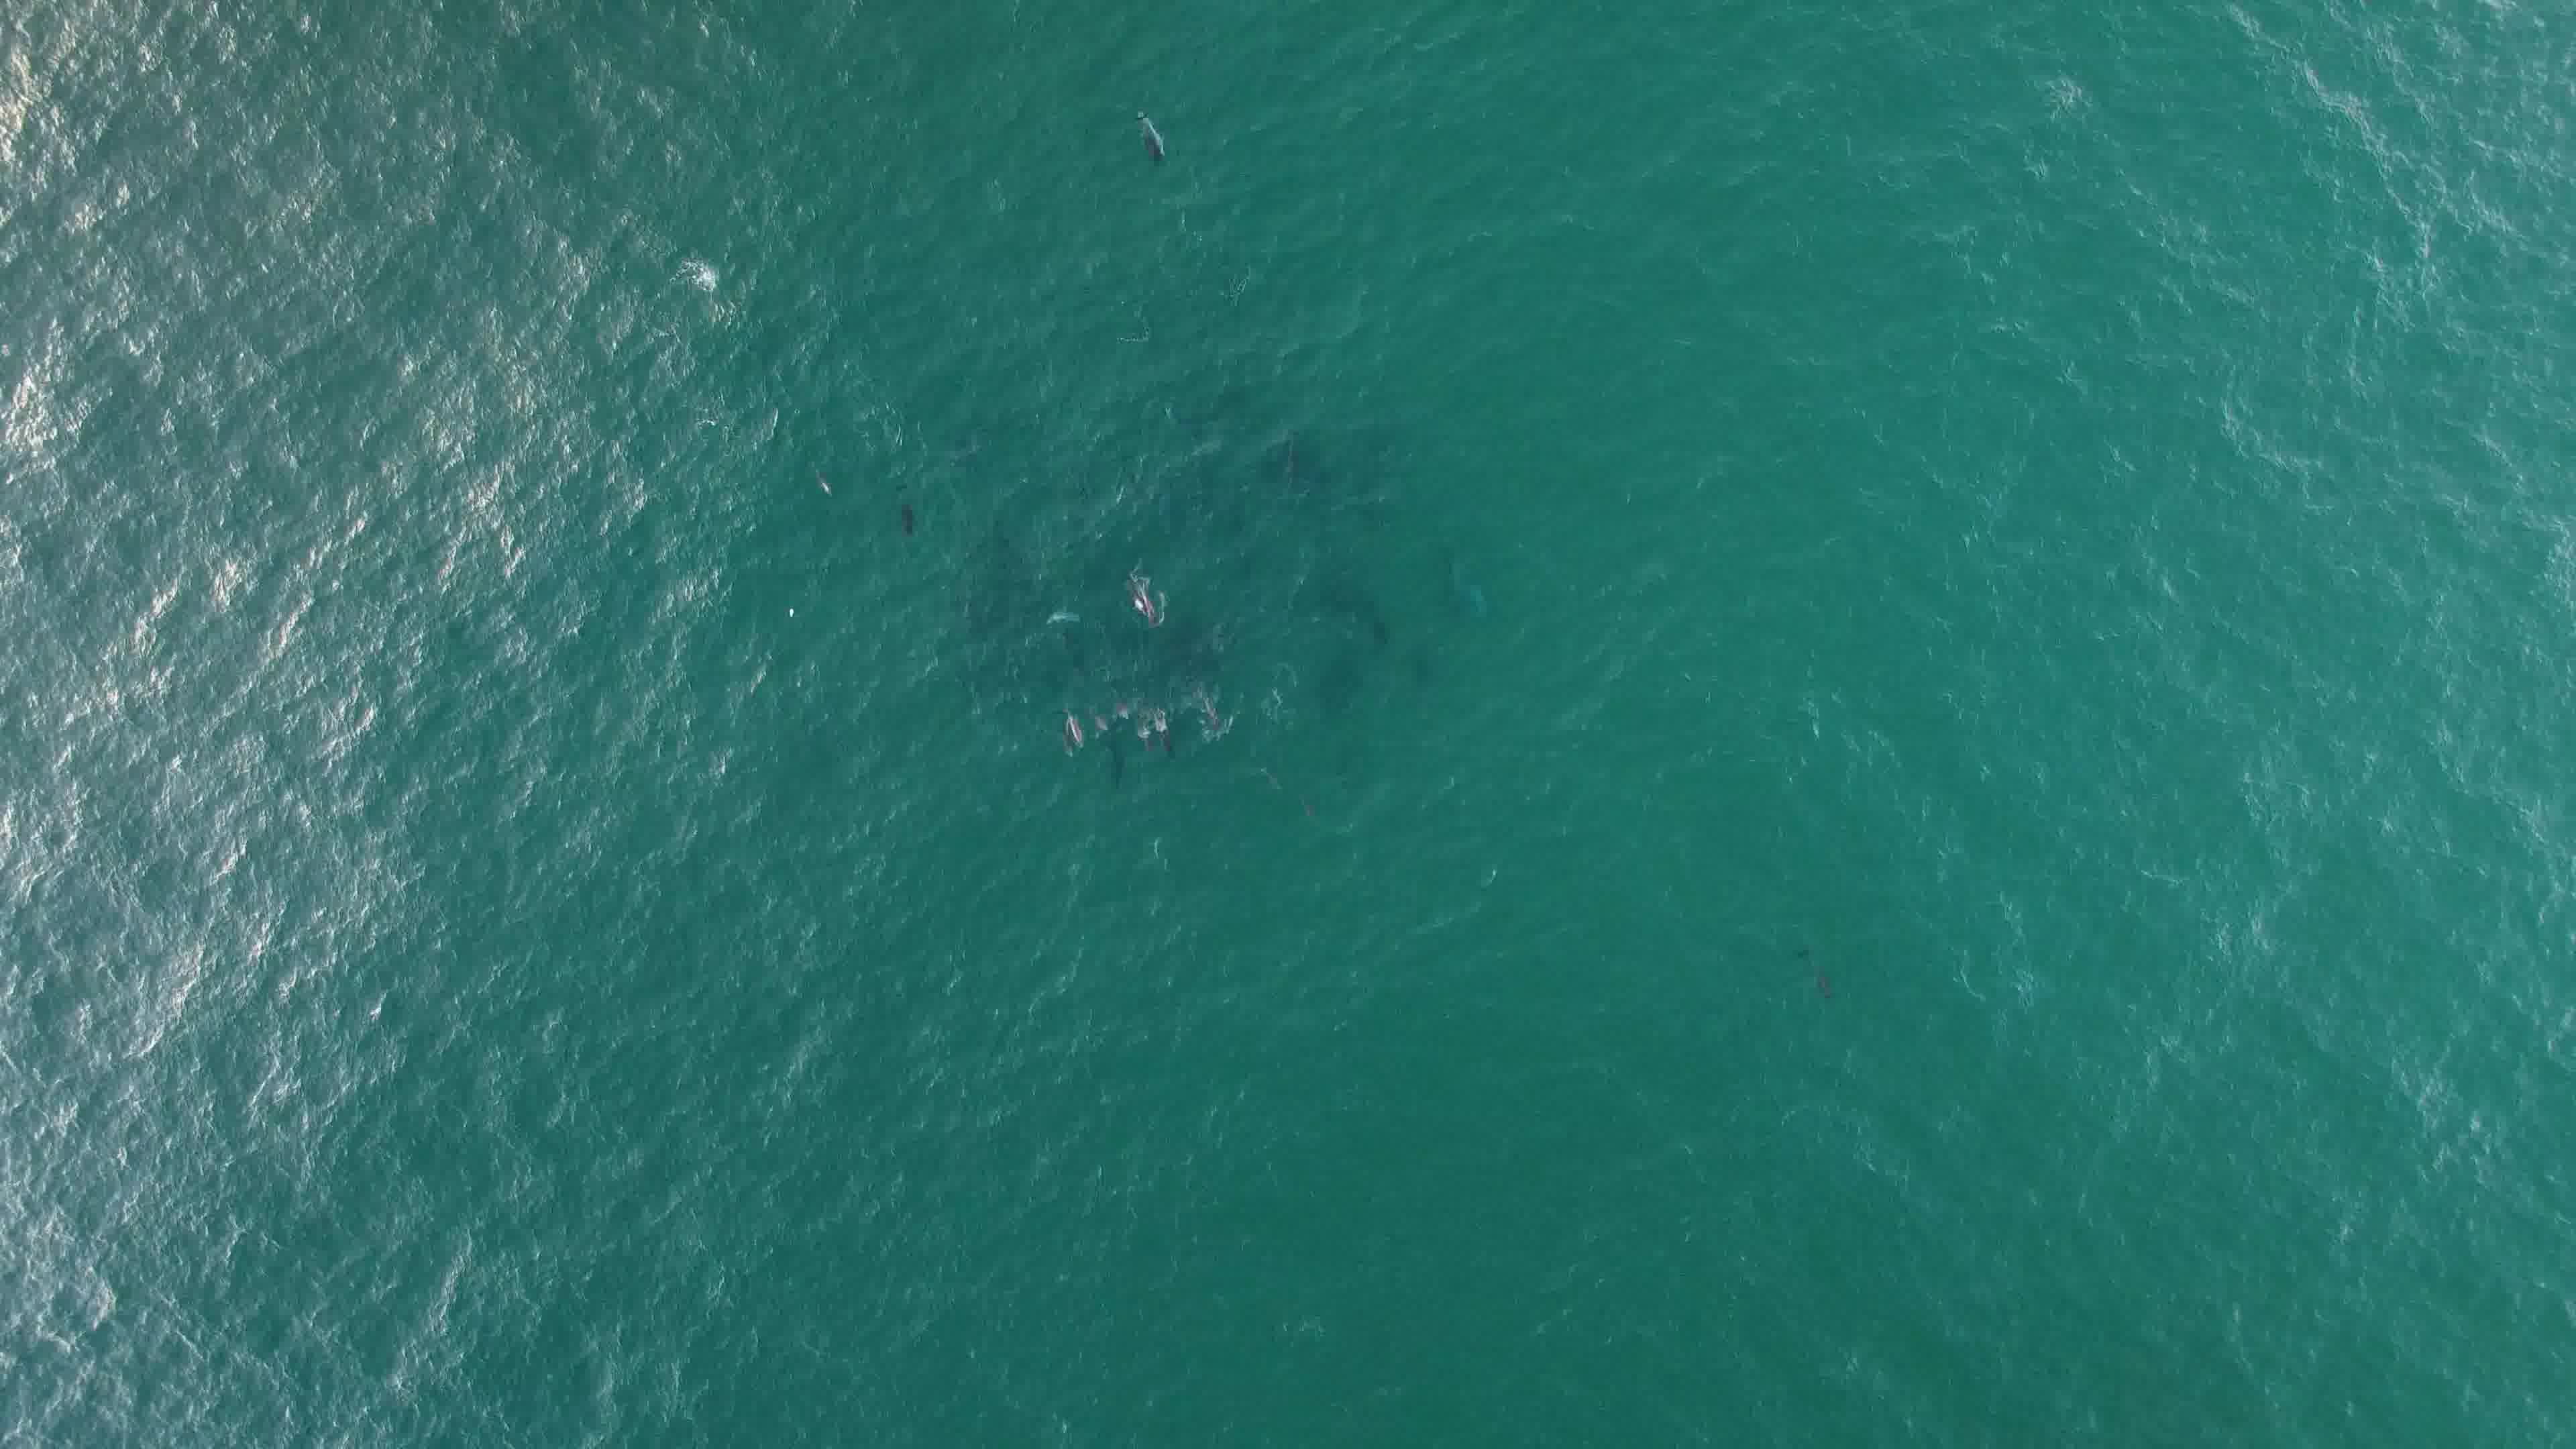dolphin: (1106, 96, 1180, 172), (1131, 694, 1196, 773), (1116, 563, 1171, 640), (872, 472, 932, 543), (1040, 699, 1095, 771), (1189, 688, 1237, 747), (1092, 690, 1143, 740)
